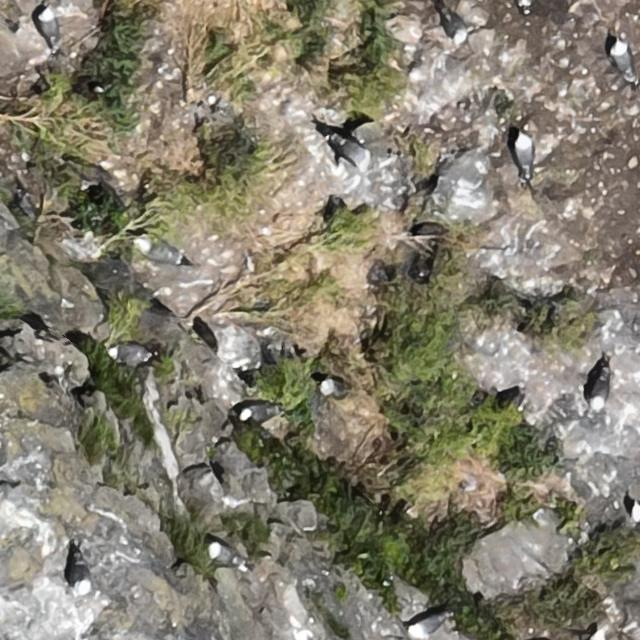umineko: (130, 235, 194, 265), (330, 136, 374, 168), (612, 42, 633, 79), (111, 345, 150, 364), (409, 615, 444, 636), (514, 136, 533, 174), (445, 13, 469, 42), (590, 372, 608, 408), (210, 543, 238, 565), (40, 10, 59, 42), (242, 404, 276, 421), (73, 561, 91, 593), (321, 378, 345, 395), (630, 503, 638, 526)
